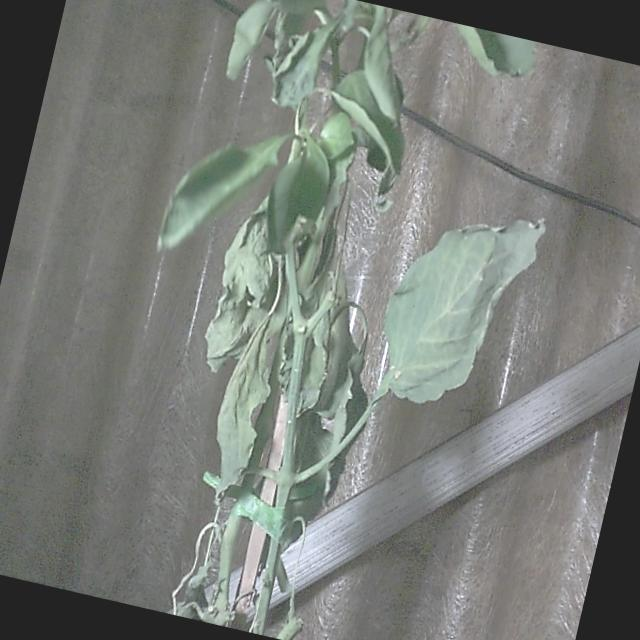Leaf: (368, 190, 547, 426), (154, 111, 283, 270)
